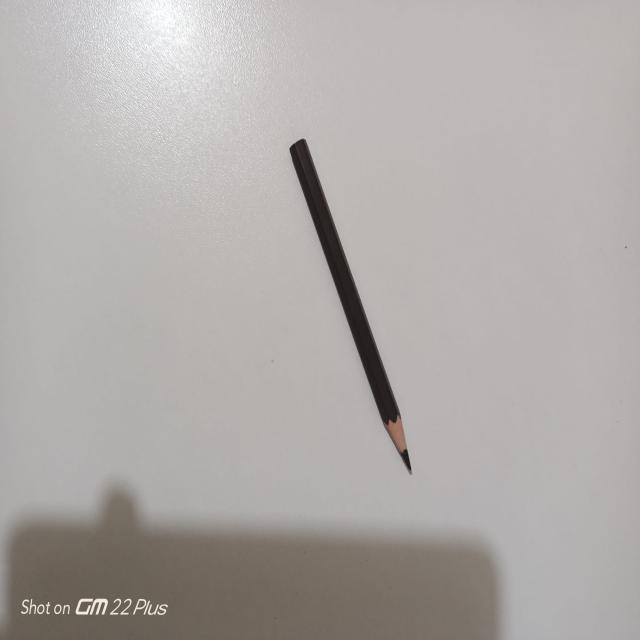pencil: (290, 139, 411, 474)
